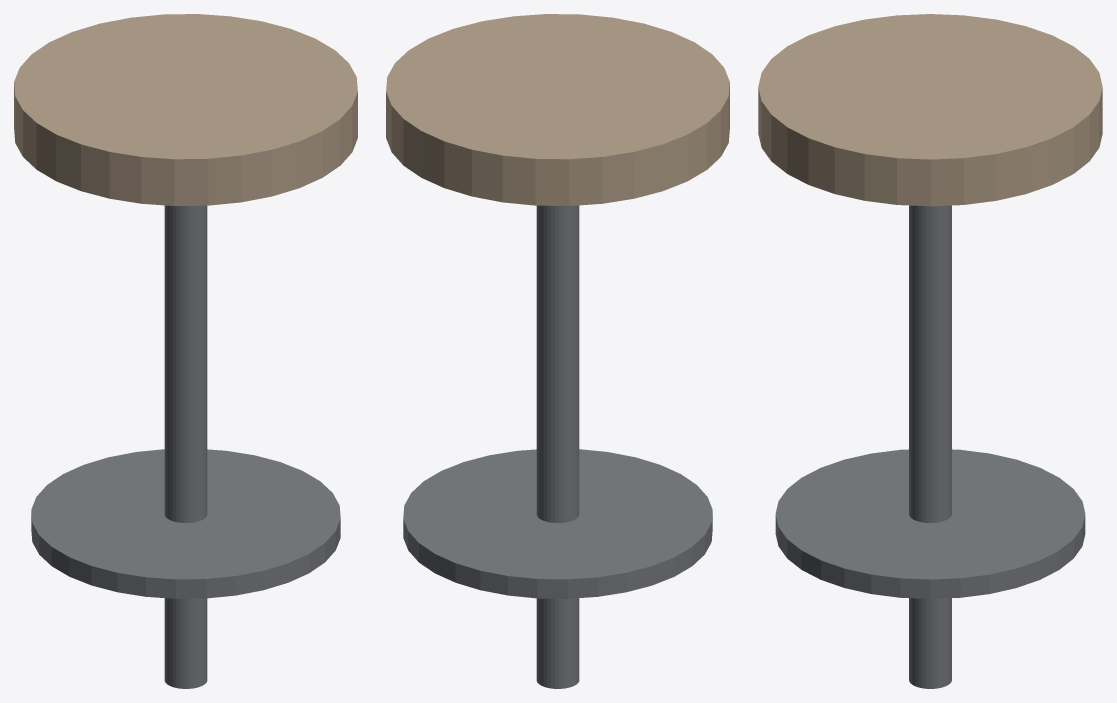
File: bar-stool.glb
3 renders of one model, left to right at view 1: azimuth 30°, elevation 25°; view 2: azimuth 150°, elevation 25°; view 3: azimuth 270°, elevation 25°, orthographic.
Visible parts, largest first — view 1: bar-stool_0, bar-stool_2, bar-stool_1; view 2: bar-stool_0, bar-stool_2, bar-stool_1; view 3: bar-stool_0, bar-stool_2, bar-stool_1.
Boxes of the visible parts, x1=… form: bar-stool_0: x1=14, y1=14, x2=357, y2=205; bar-stool_2: x1=31, y1=449, x2=340, y2=598; bar-stool_1: x1=164, y1=205, x2=207, y2=688; bar-stool_0: x1=386, y1=14, x2=729, y2=205; bar-stool_2: x1=403, y1=449, x2=712, y2=598; bar-stool_1: x1=536, y1=205, x2=579, y2=688; bar-stool_0: x1=758, y1=14, x2=1102, y2=206; bar-stool_2: x1=775, y1=449, x2=1085, y2=598; bar-stool_1: x1=909, y1=205, x2=951, y2=688.
Size of the model in its own units: 0.4 by 0.76 by 0.4.
